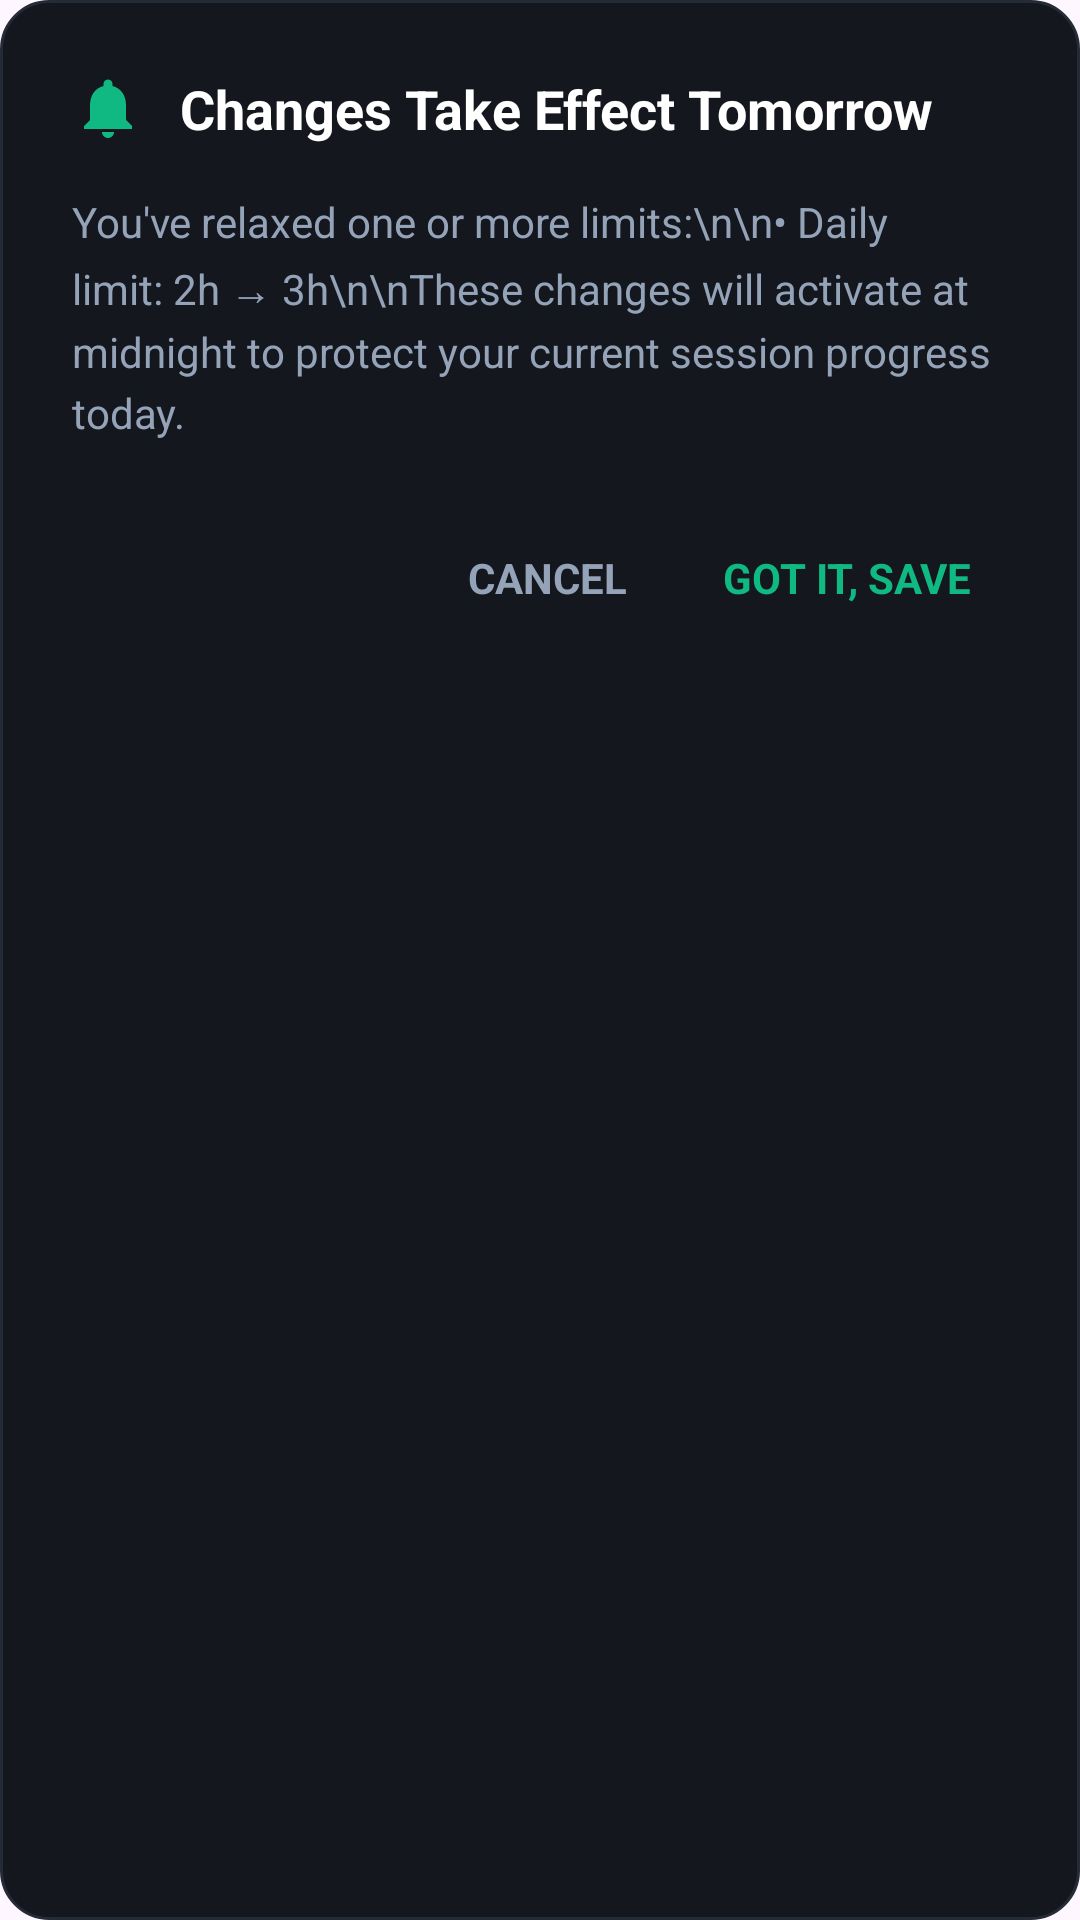

Screen size 1080w x 1920h. Icon name, then its box in pixels as (x1, y1, x2, y2):
notification bell: (84, 79, 132, 138)
